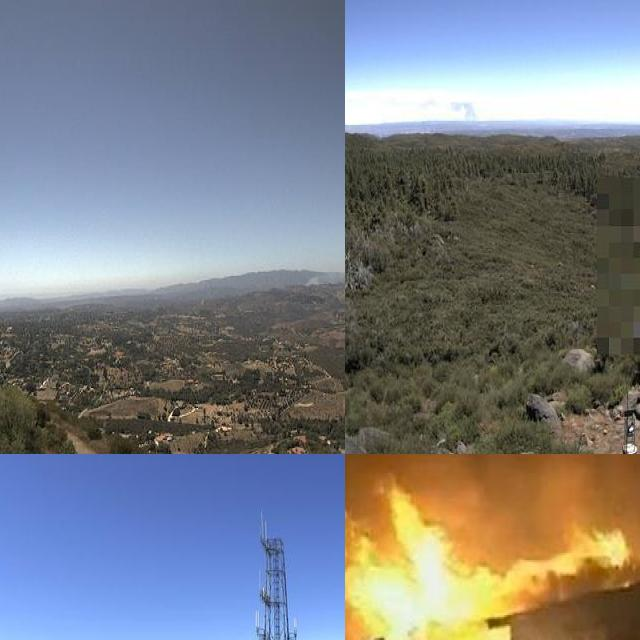fire: (345, 469, 616, 640)
smoke: (345, 454, 640, 565), (303, 262, 345, 284), (448, 100, 478, 121)
